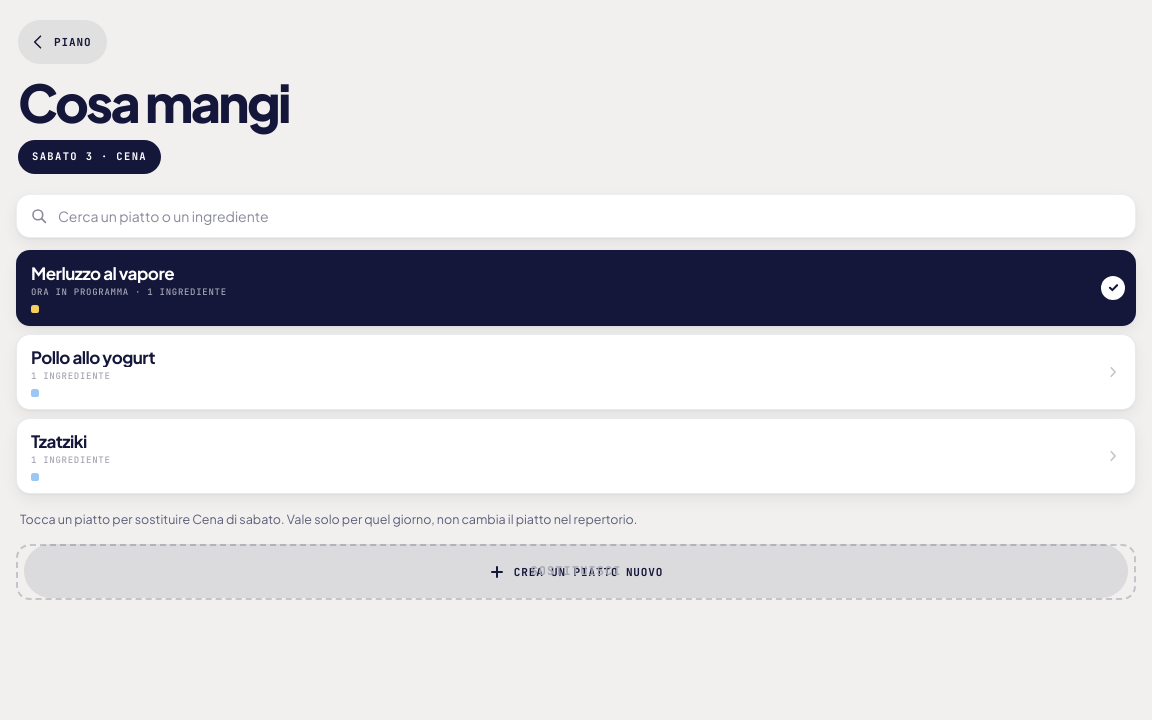
Test: Conflitto di residuo › settimana confermata: il candidato che sfora lista più residuo congelato mostra il mancante e il pasto che resterà senza
Expected: the text "Merluzzo al vapore" is shown, [31,262,174,284]
Expected: the text "non basta" is not shown
Click the text "Pollo allo yogurt". click: (93, 357)
box: [31,346,155,368]
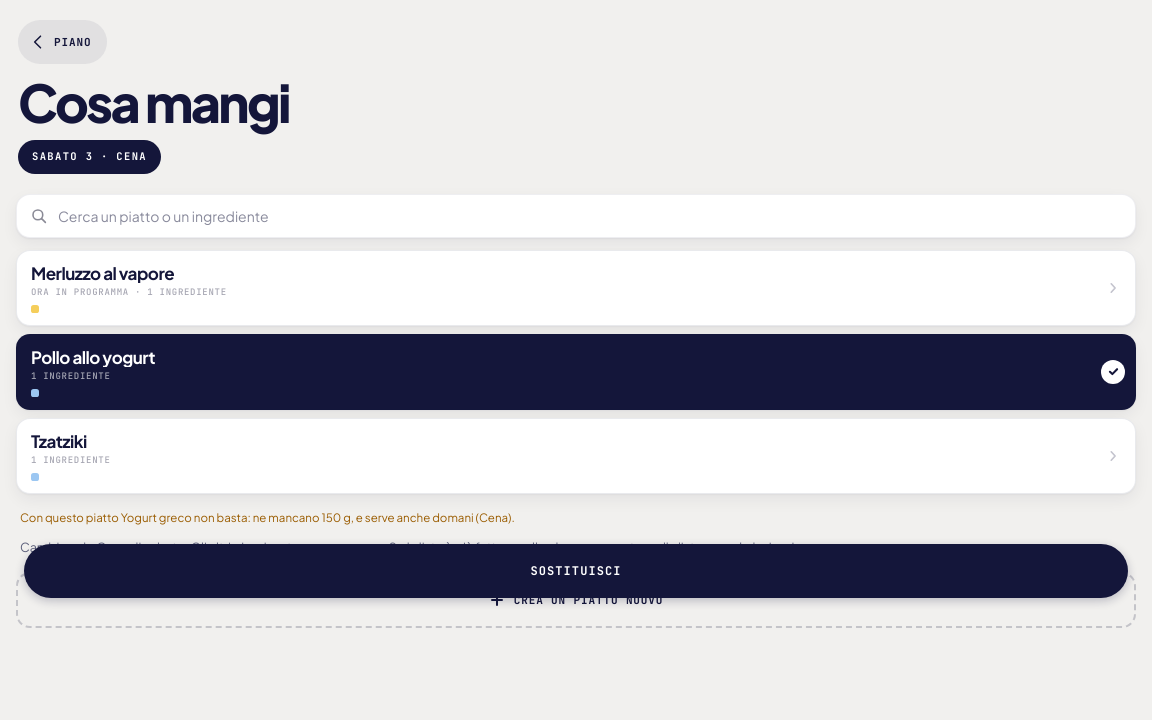
Expected: the button "SOSTITUISCI" is enabled, [24,544,1128,598]
